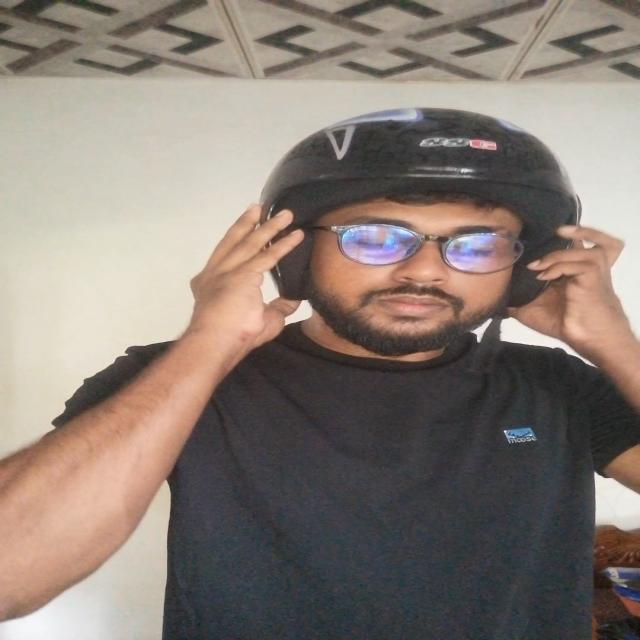Helmet_Wearer: (240, 99, 613, 372)
Person: (12, 104, 640, 640)
